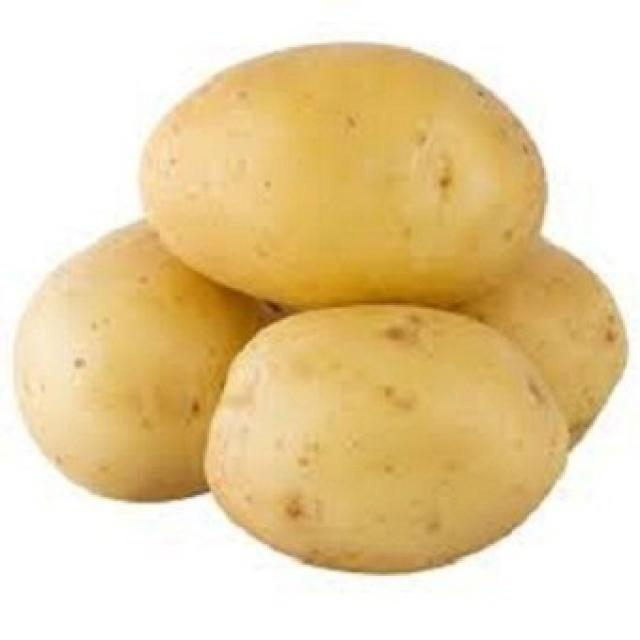potato: (128, 37, 556, 304), (204, 302, 568, 580), (12, 214, 304, 506), (352, 230, 627, 478)
